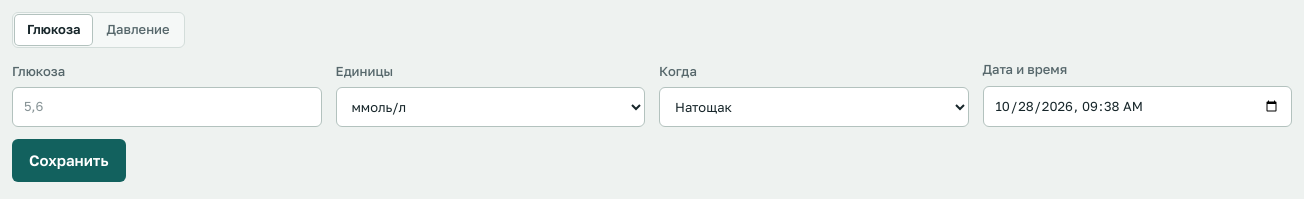
Test: patient cabinet › manual measurement entry posts canonical payload and shows severity
The width and height of the screenshot is (1304, 199).
Click the button "Давление" at [138, 30], box [94, 15, 182, 45]
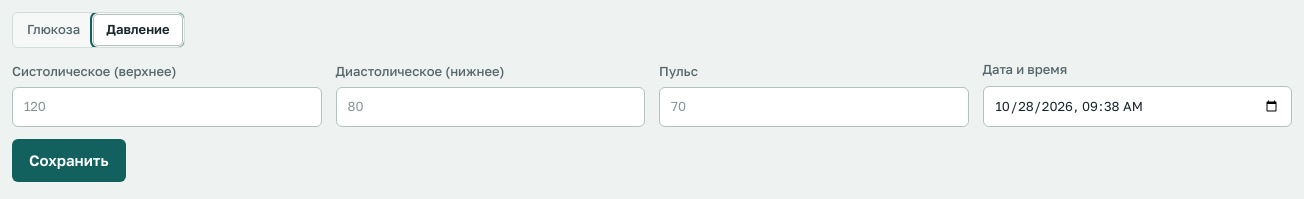
Type "190" into the field labelled "Систолическое (верхнее)" at [167, 107], box [12, 87, 322, 127]
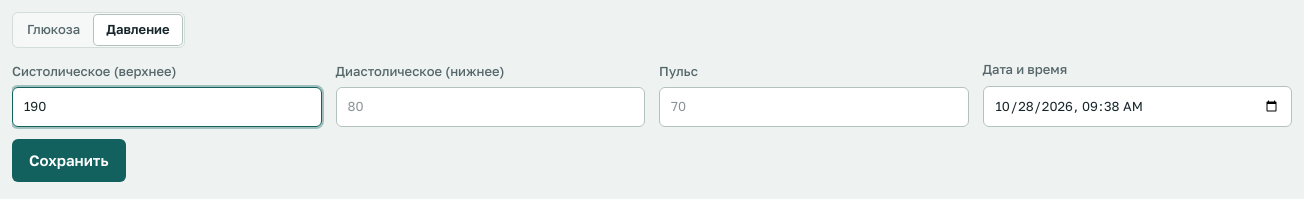
Type "115" into the field labelled "Диастолическое (нижнее)" at [490, 107], box [336, 87, 645, 127]
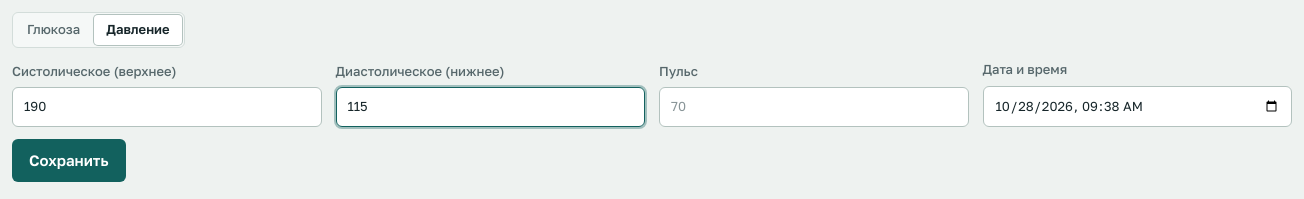
Click the button "Сохранить" at [69, 160], box [12, 139, 126, 182]
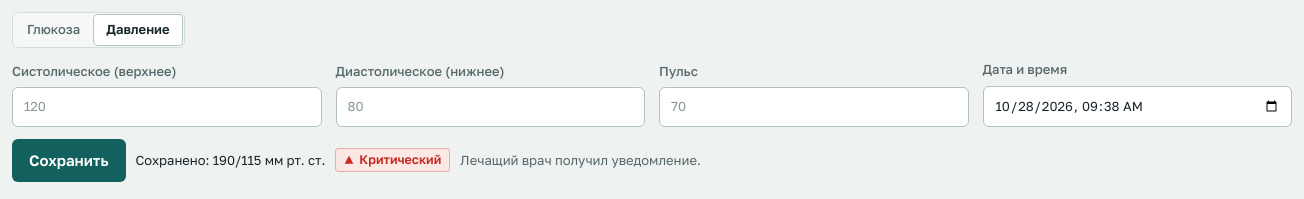
Check: the message shows "Критический", box [359, 152, 441, 167]
Check: the message shows "Лечащий врач получил уведомление", box [460, 152, 701, 168]
